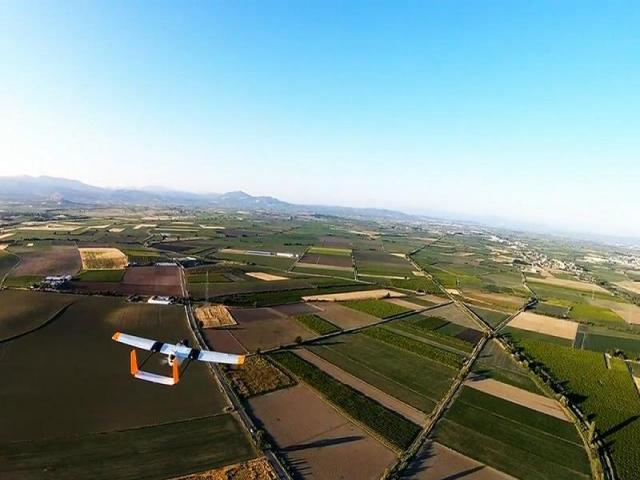hedef: (109, 320, 252, 390)
